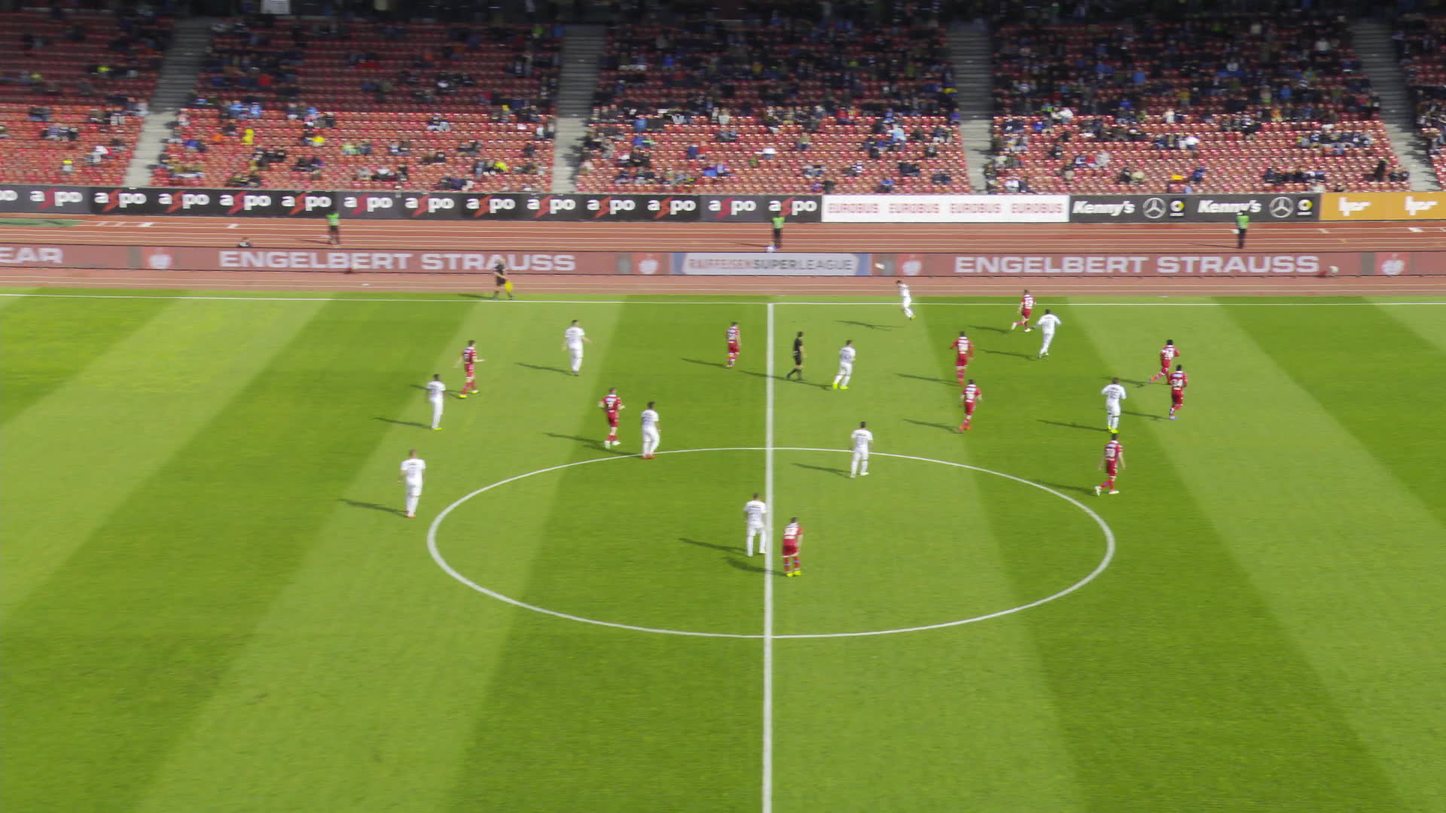ball: (876, 263, 881, 268)
player: (450, 338, 487, 400), (400, 445, 432, 515), (1030, 310, 1068, 361), (599, 384, 629, 448), (749, 488, 776, 559), (1165, 361, 1196, 422), (1101, 431, 1129, 498), (845, 419, 877, 477), (566, 317, 599, 373), (640, 399, 670, 459), (1103, 379, 1133, 434), (953, 328, 981, 385), (963, 375, 989, 431), (787, 515, 810, 577), (430, 372, 453, 431), (1156, 337, 1184, 385), (831, 339, 856, 391), (893, 276, 920, 324), (1014, 288, 1042, 333), (719, 318, 742, 369)
referee: (784, 329, 810, 383), (497, 254, 524, 302)
